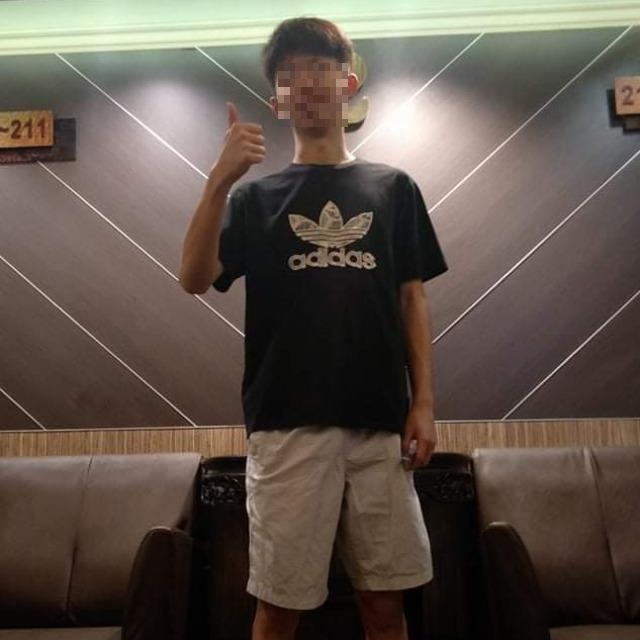NoHelmet: (261, 16, 353, 130)
NoVest: (241, 154, 426, 415)
